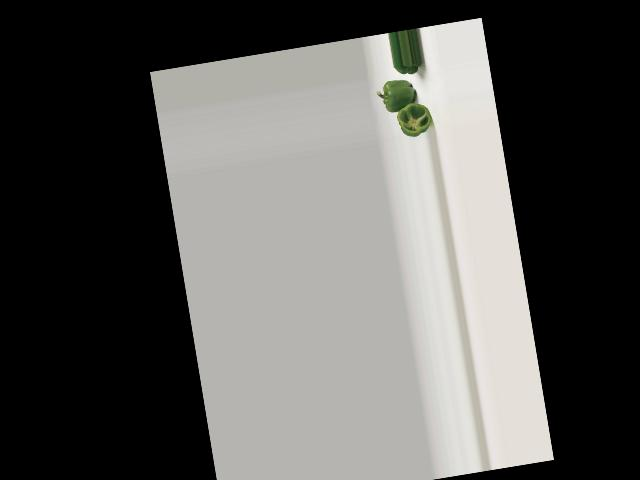bell_pepper: (391, 98, 436, 141)
